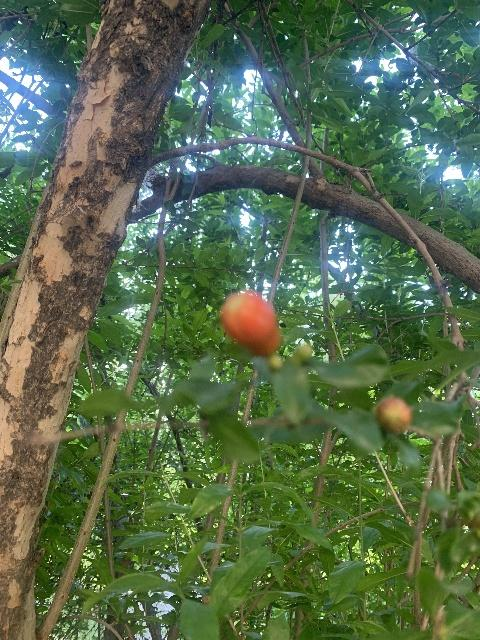bud: (219, 290, 280, 357), (375, 396, 412, 433)
